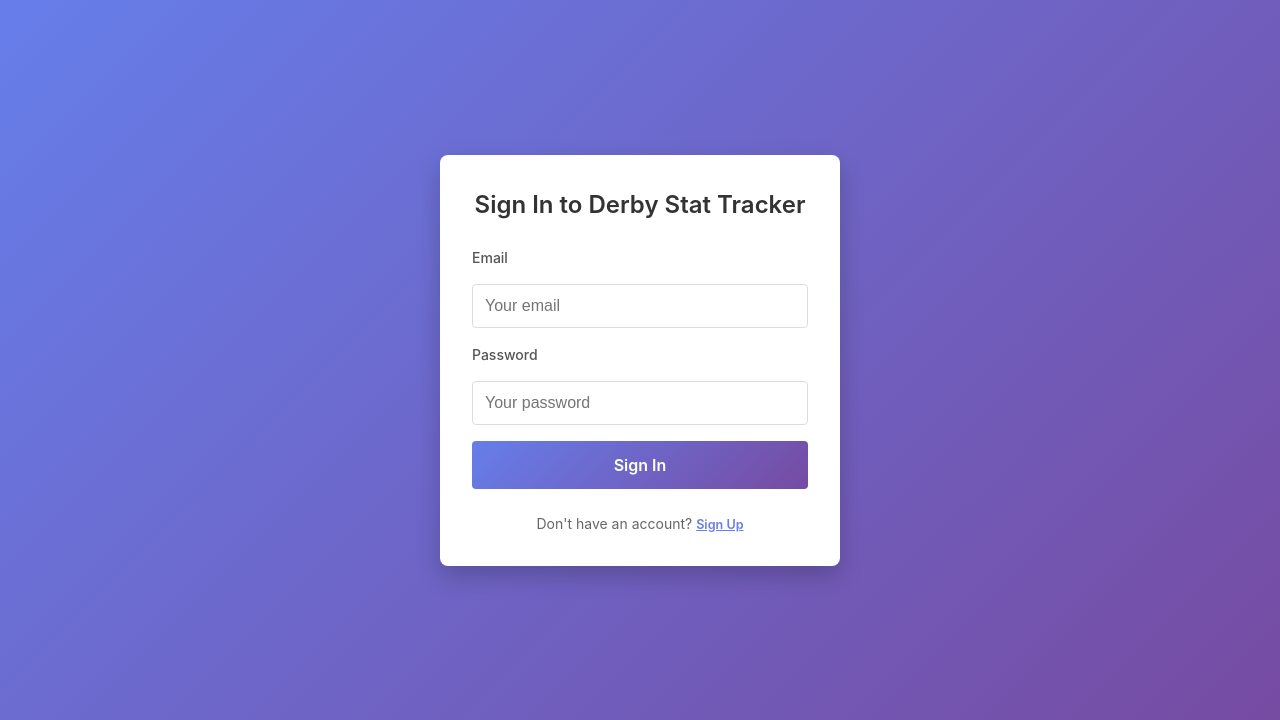
Scenario: Auth Component › toggles to sign up form when link is clicked
Step 1. Click the button "Sign Up" → click(720, 524), box [696,516,744,532]
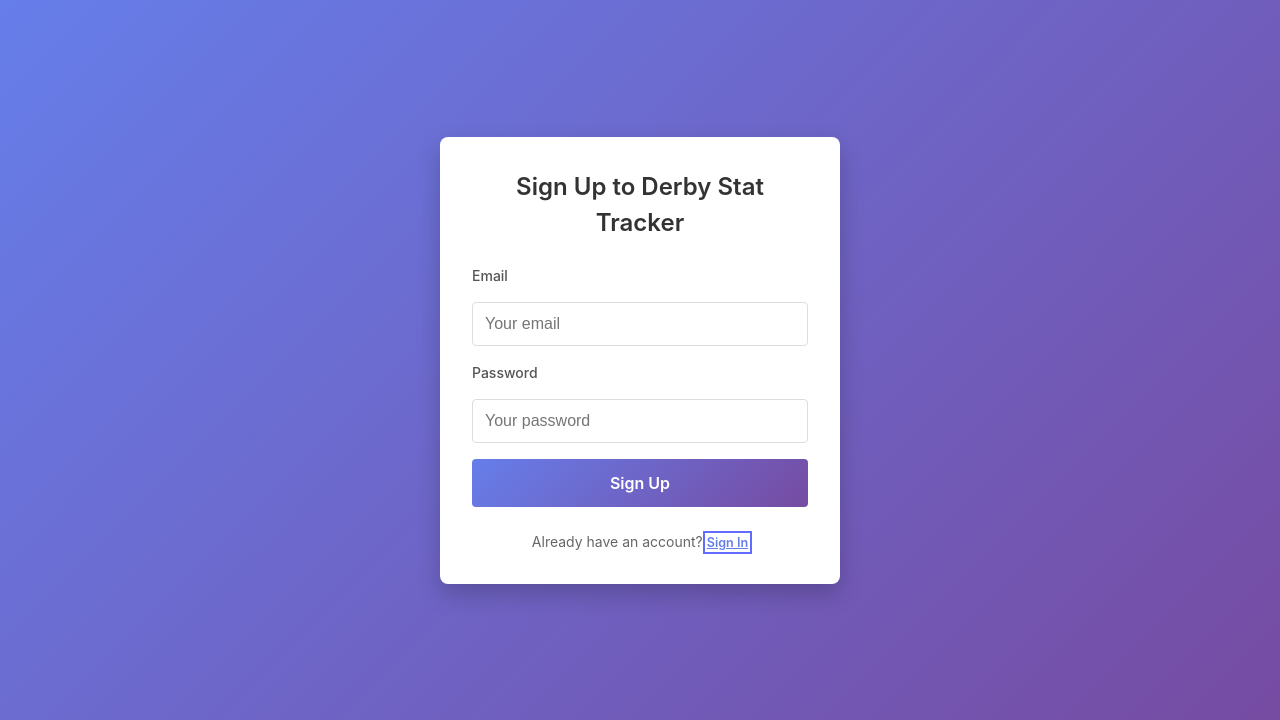
Check: the heading "Sign Up to Derby Stat Tracker" is shown, box [516,172,764,236]
Check: the button "Sign Up" is shown, box [472,458,808,506]
